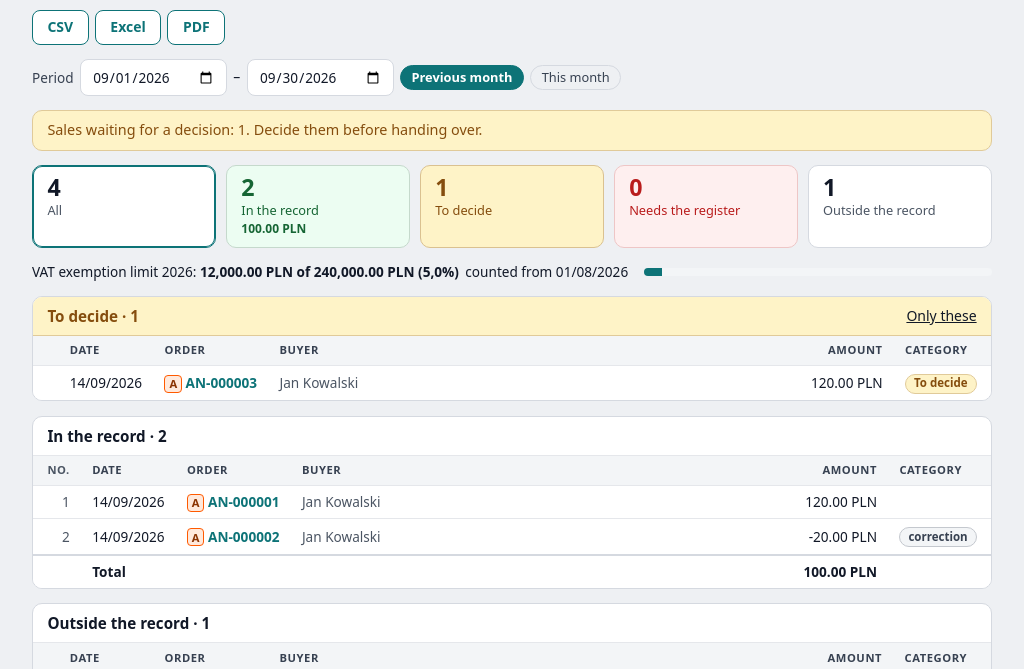
Test: NonInvoicedPage › says why a correction or a company's sale is not decided by hand
Click the button "AN-000002". click: (244, 536)
box: [208, 526, 280, 546]
(page scrolled)
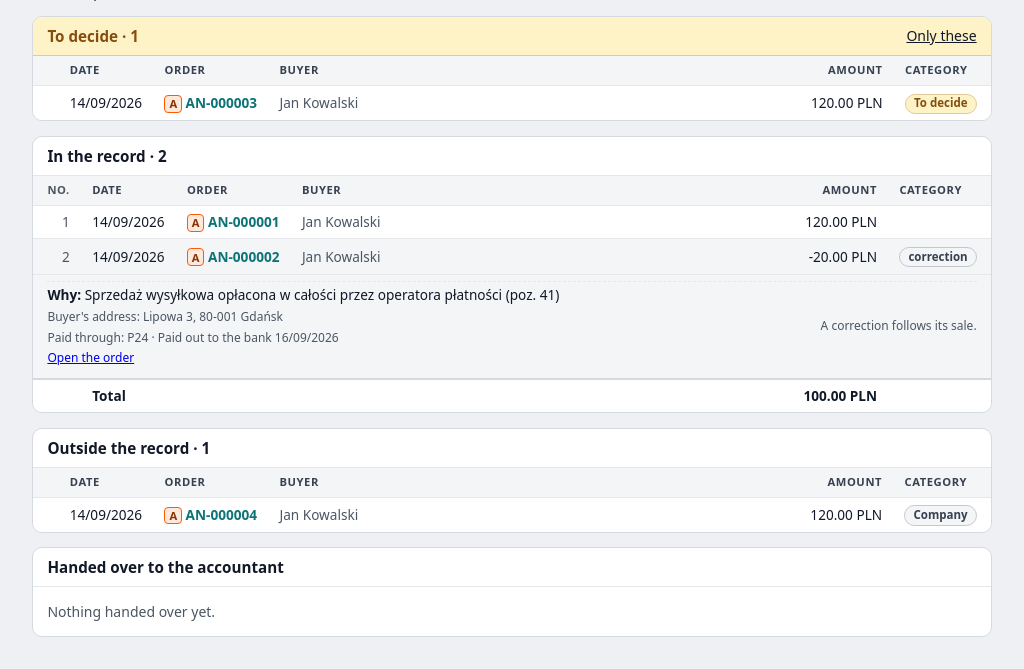
Expected: the text "A correction follows its sale." is shown, [821, 317, 977, 334]
Click the button "AN-000004". click: (221, 515)
box: [186, 505, 257, 525]
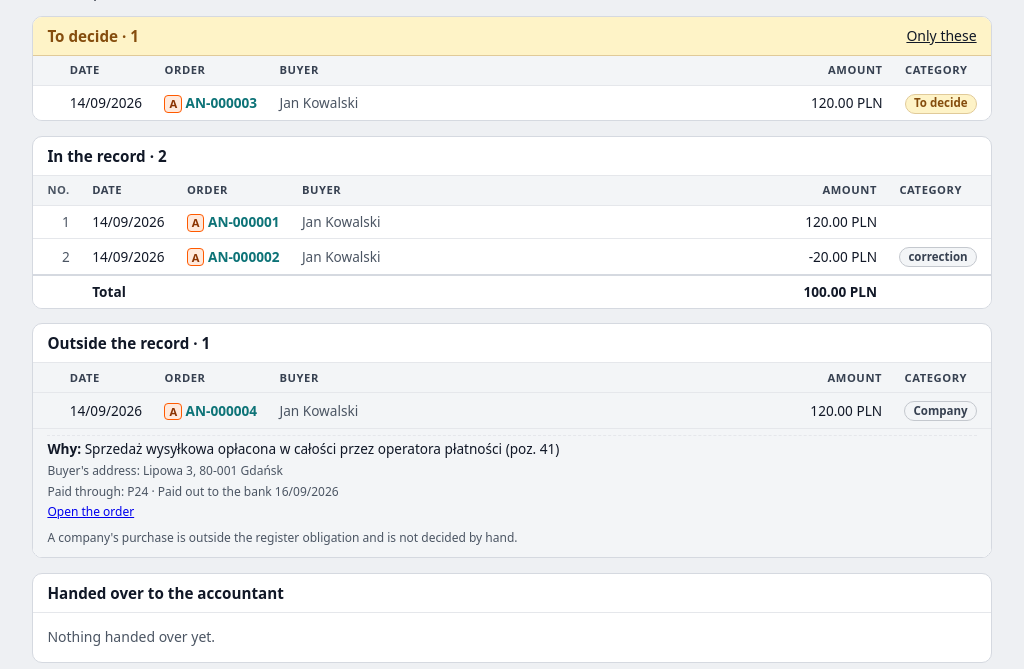
Expected: the text "A company's purchase is outside the register obligation" is shown, [47, 529, 518, 546]
